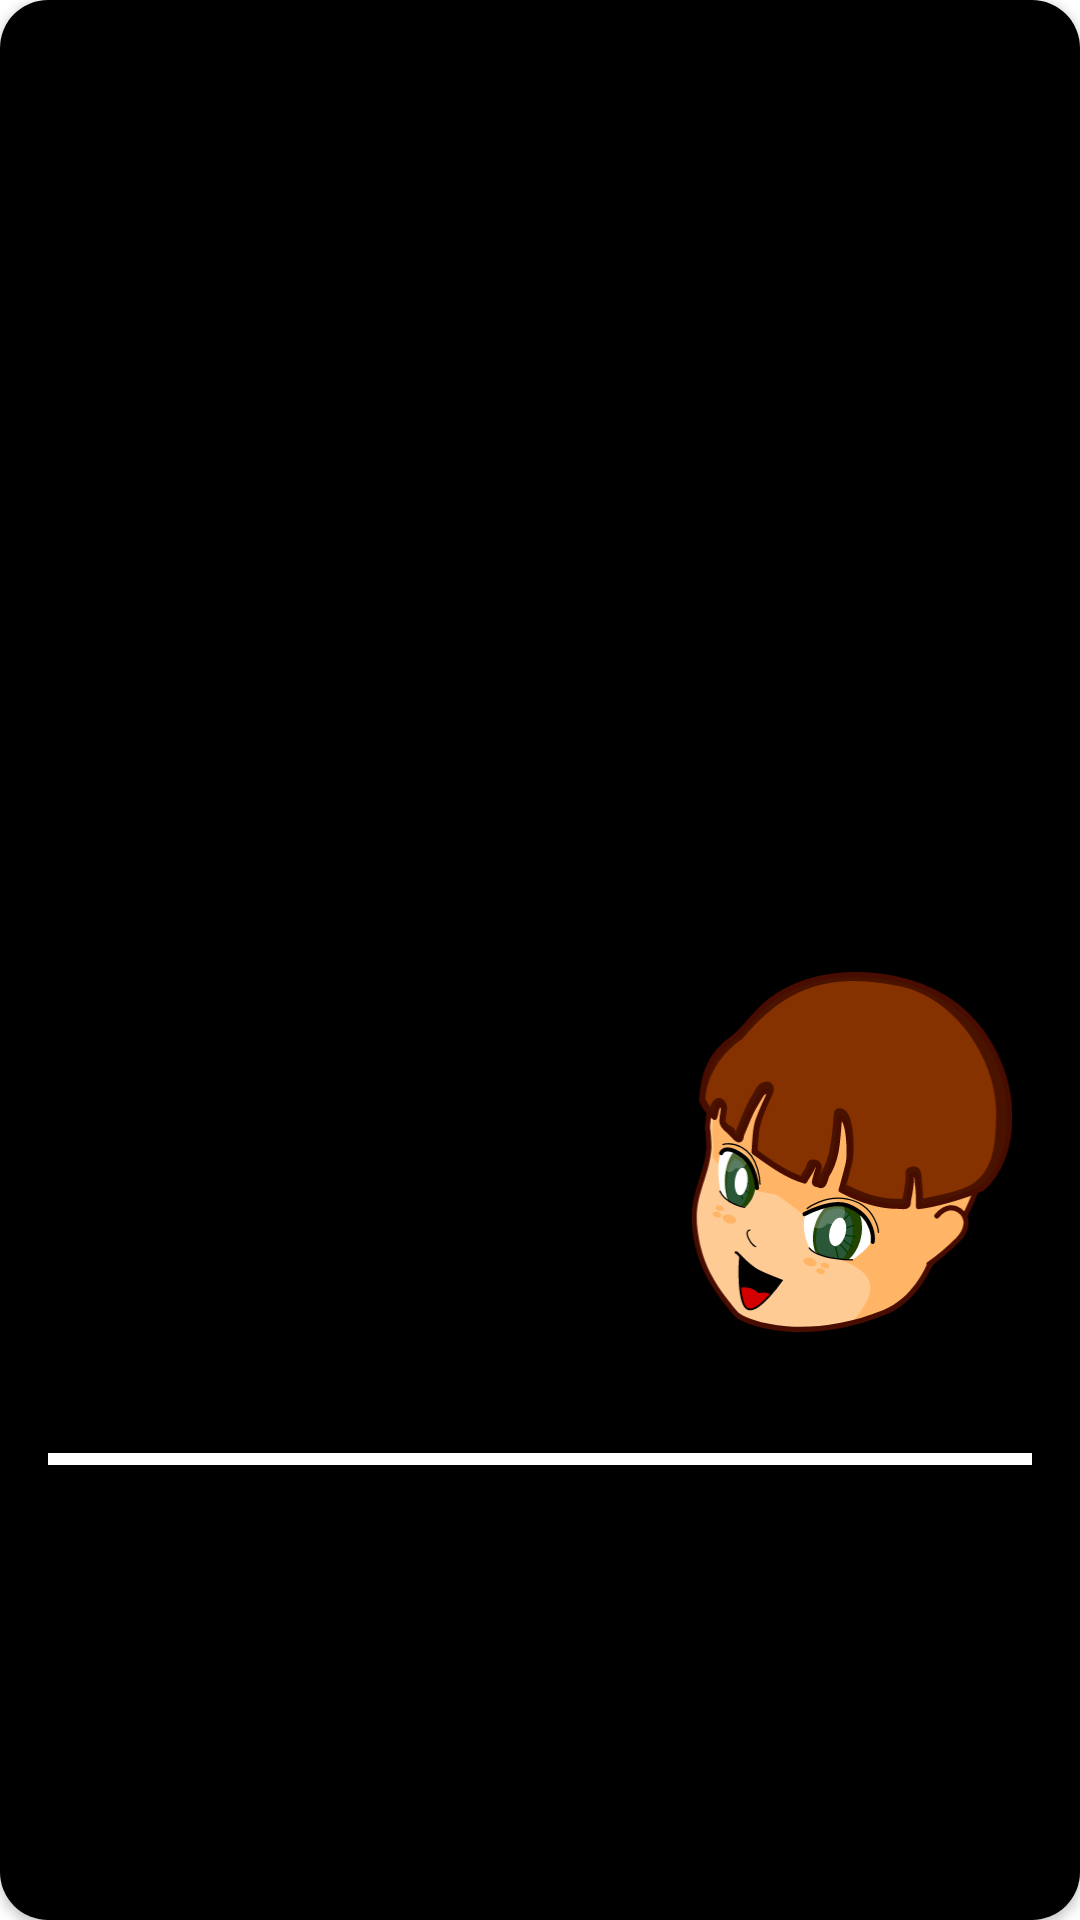

Point at icon controls on the screen. Image size 1080px×1920px, points as (x=x, y=y).
anime: (x=852, y=1152)
